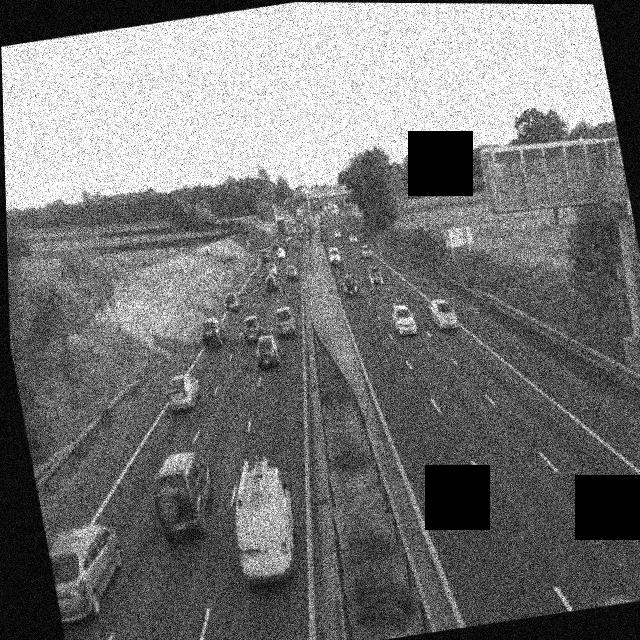car: (221, 453, 304, 588), (45, 521, 133, 624), (147, 448, 221, 541), (162, 370, 204, 413), (253, 333, 283, 370), (428, 297, 458, 332), (391, 303, 419, 337), (271, 304, 297, 338), (198, 316, 225, 348), (592, 592, 640, 608), (239, 313, 264, 343), (340, 271, 360, 297), (262, 268, 279, 293), (223, 288, 241, 310), (367, 264, 383, 286), (283, 261, 299, 281), (327, 247, 342, 267), (361, 245, 373, 261), (260, 248, 272, 263), (349, 231, 360, 243), (291, 237, 301, 250)
